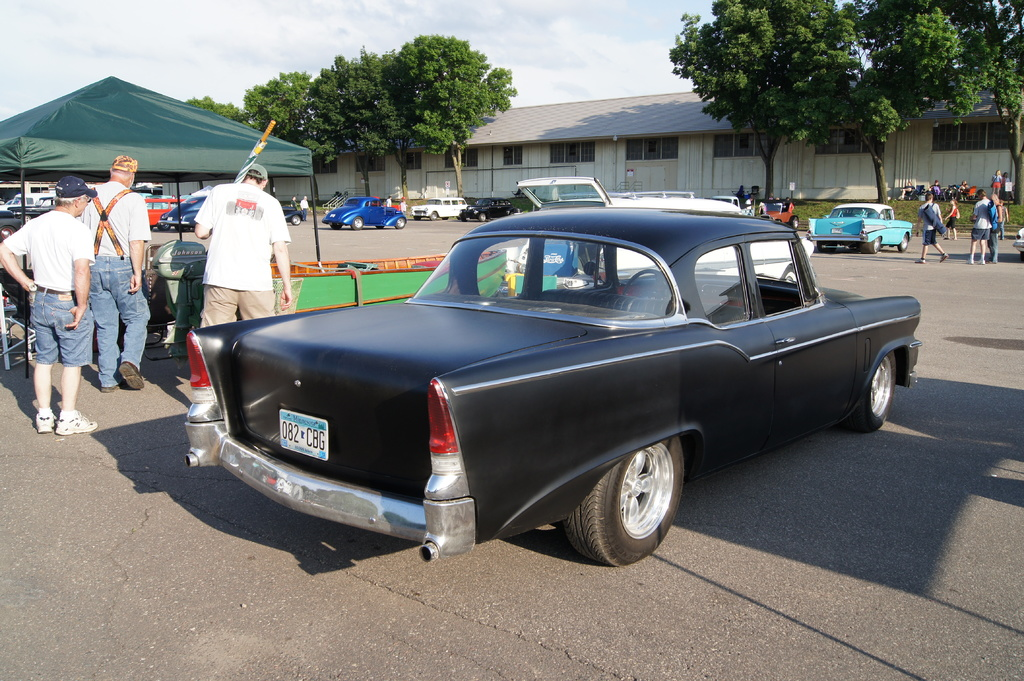cars: (185, 205, 920, 569), (809, 200, 916, 255), (328, 198, 409, 233)
